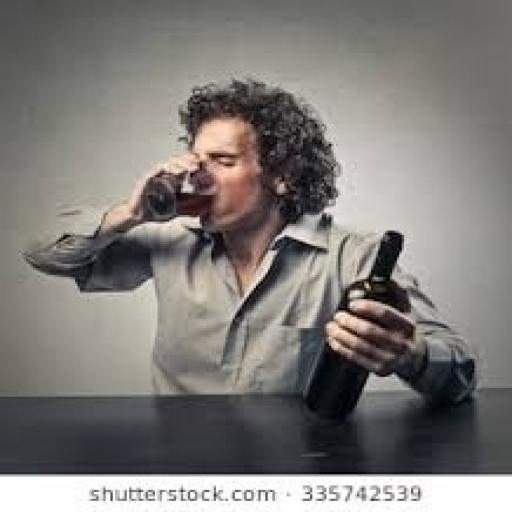drinking: (301, 228, 404, 421)
